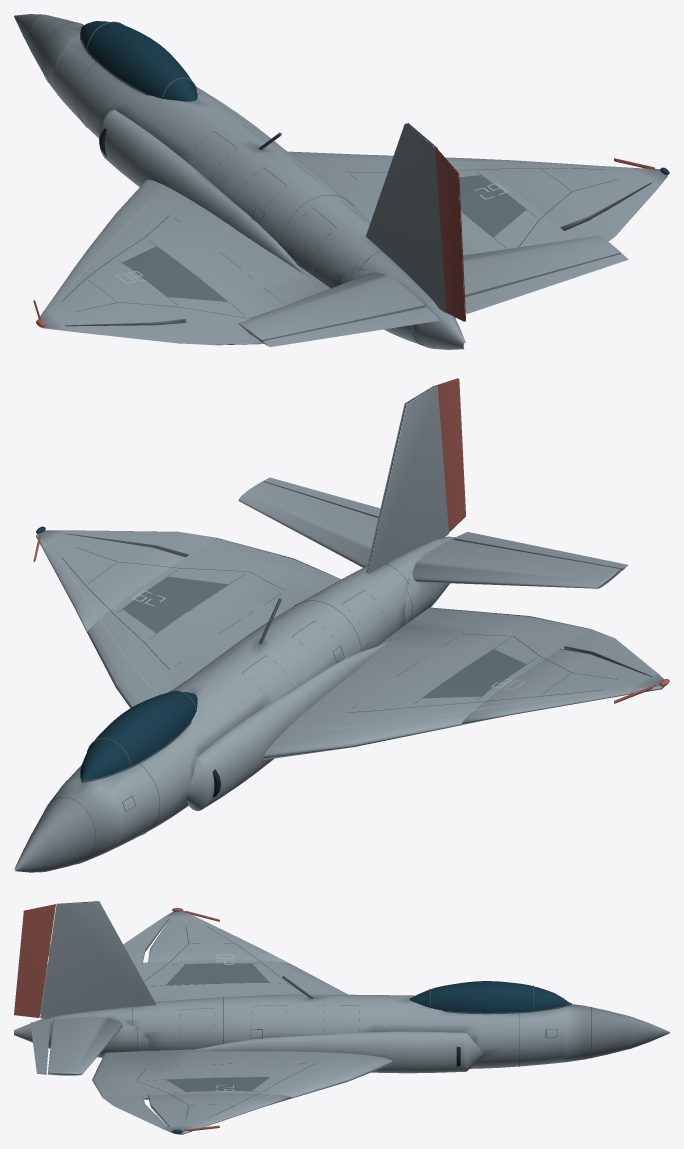
File: player-dart-hero-v3.glb
3 renders of one model, top to bottom at view 1: azimuth 30°, elevation 25°; view 2: azimuth 150°, elevation 25°; view 3: azimuth 270°, elevation 25°, orthographic. The views are drawn at different scales.
Parts seen in each view (by area): view 1: hull, service-markings, glass, rudder, elevator-right, elevator-left, aileron-left, aileron-right, trim; view 2: hull, service-markings, glass, rudder, aileron-right, aileron-left, elevator-left, trim, elevator-right; view 3: hull, service-markings, glass, rudder, aileron-right, elevator-right, aileron-left, trim.
Boxes of the visible parts, <box> form: hull: <box>14,14,667,349</box>; service-markings: <box>59,124,617,318</box>; glass: <box>80,21,669,175</box>; rudder: <box>435,149,465,321</box>; elevator-right: <box>465,253,628,313</box>; elevator-left: <box>263,307,439,346</box>; aileron-left: <box>66,322,216,345</box>; aileron-right: <box>564,183,657,241</box>; trim: <box>41,21,381,280</box>; hull: <box>14,385,664,872</box>; service-markings: <box>59,547,617,729</box>; glass: <box>36,526,197,781</box>; rudder: <box>435,378,465,532</box>; aileron-right: <box>65,530,216,557</box>; aileron-left: <box>564,629,657,676</box>; elevator-left: <box>453,532,628,570</box>; trim: <box>44,564,412,864</box>; elevator-right: <box>263,477,380,517</box>; hull: <box>14,901,669,1134</box>; service-markings: <box>136,926,359,1119</box>; glass: <box>171,981,570,1133</box>; rudder: <box>14,904,55,1017</box>; aileron-right: <box>103,1095,168,1127</box>; elevator-right: <box>30,1020,50,1074</box>; aileron-left: <box>123,918,168,962</box>; trim: <box>132,976,591,1066</box>.
Size of the model in its own units: 9.7 by 3.34 by 12.
